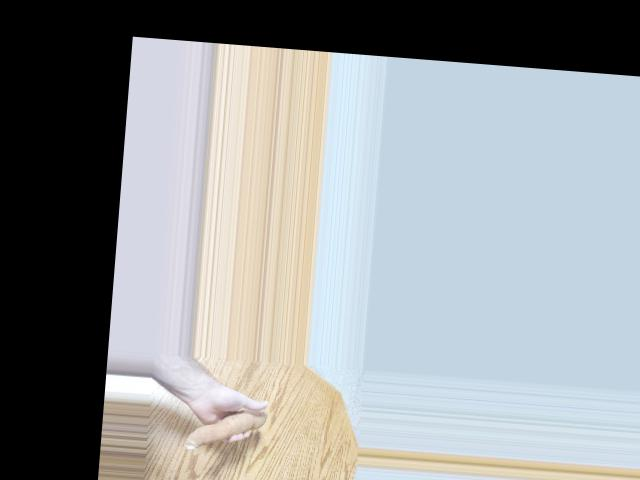sweet_potato: (183, 407, 270, 454)
